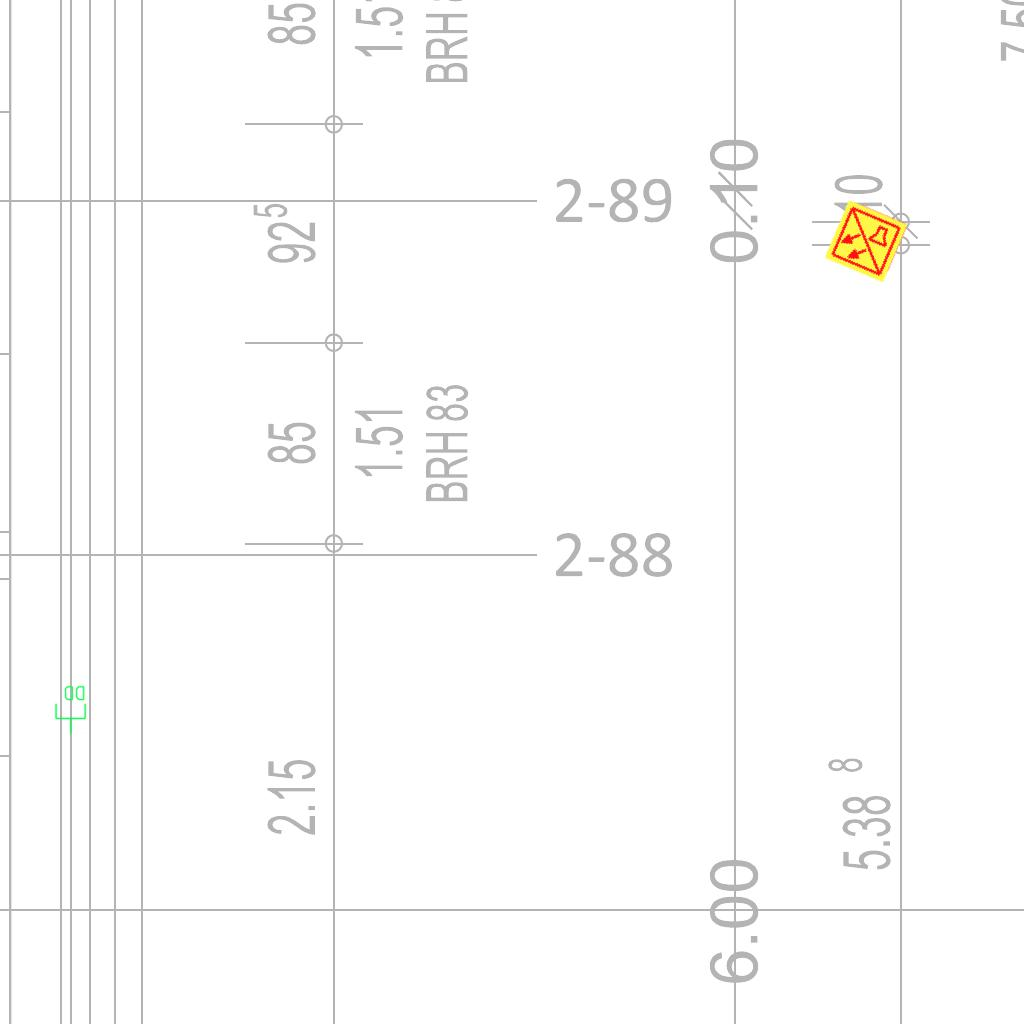Datenanschluss_zweifach: (54, 684, 88, 735)
OKW_Multisensormelder_(Kombination_optischer_Rauch-Kahlenmonoxid_Waerme-Melder): (822, 197, 910, 285)
